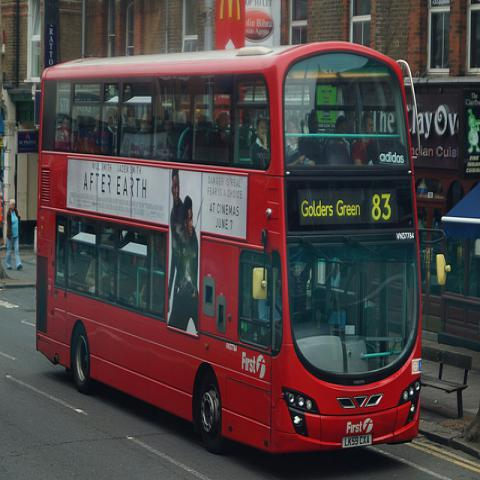bus: (30, 41, 428, 466)
